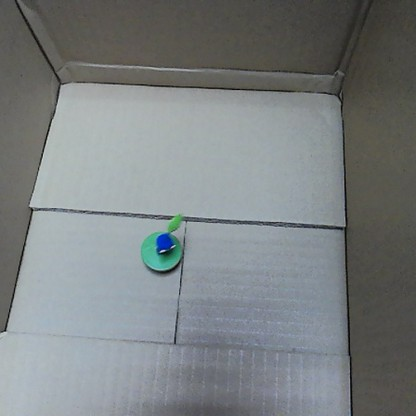leafairy: (136, 212, 186, 274)
